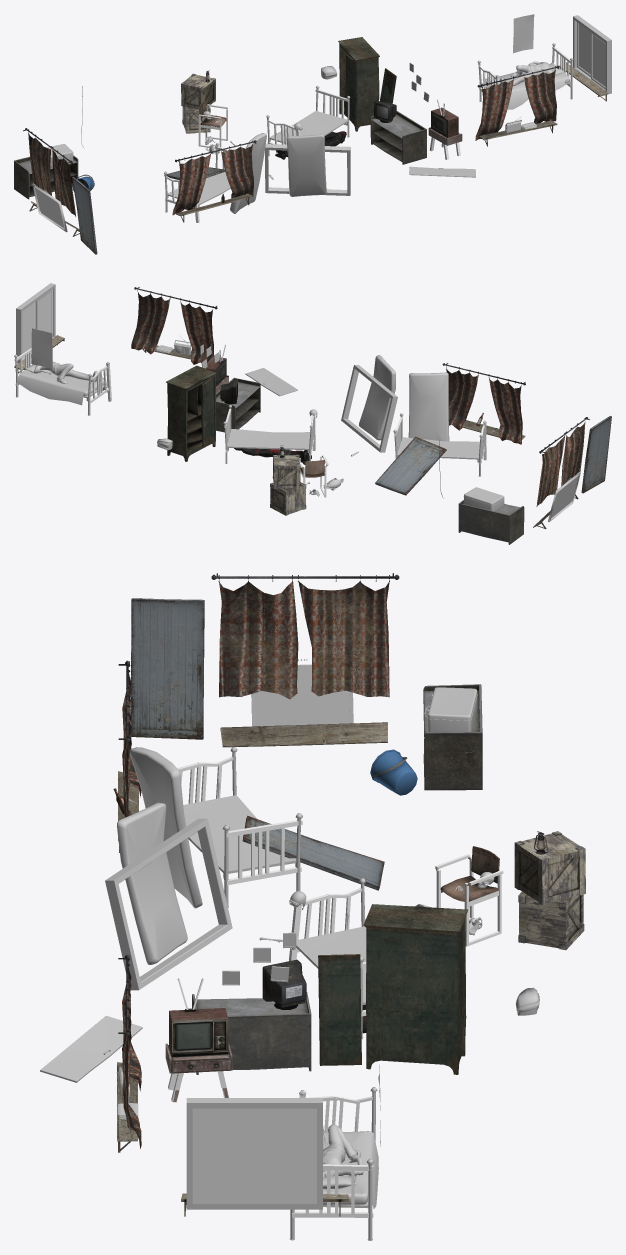
Rendered from H3_Rooms.fbx.
The picture shows the model from 3 angles, top to bottom: view 1: azimuth 30°, elevation 25°; view 2: azimuth 150°, elevation 25°; view 3: azimuth 270°, elevation 25°; orthographic projection. The views are drawn at different scales.
Parts seen in each view (by area): view 1: Double_ExpCurtainSet_T02 (×2), S_Storage (×2), Wardrobe_T01, Mattress_T02, MetalBed (×2), Double_ExpCurtainSet_T01, WoodenCrate_T01 (×2), DoubleWindow, DamagedDoor, TripleWindowFrame_T02, DoubleWindowFrame, DamagedMattress (+13 smaller); view 2: Double_ExpCurtainSet_T02 (×2), S_Storage (×2), DamagedDoor (×2), Wardrobe_T01, MetalBed (×2), DamagedMattress, Double_ExpCurtainSet_T01, WoodenCrate_T01 (×2), Mattress_T02, BedCover_T01, TripleWindowFrame_T02, DoubleWindow (+10 smaller); view 3: Double_ExpCurtainSet_T01, Wardrobe_T01, DamagedDoor (×2), DoubleWindowGrill, S_Storage (×2), MetalBed (×3), WoodenCrate_T01 (×2), Mattress_T02, TripleWindowFrame_T02, Door_01, DamagedMattress, GreenBoard (+13 smaller).
Part boxes in pixels (x1=…): Double_ExpCurtainSet_T02 (×2): x1=172, y1=65, x2=559, y2=215; S_Storage (×2): x1=14, y1=111, x2=426, y2=199; Wardrobe_T01: x1=338, y1=37, x2=379, y2=131; Mattress_T02: x1=286, y1=134, x2=326, y2=196; MetalBed (×2): x1=164, y1=85, x2=350, y2=212; Double_ExpCurtainSet_T01: x1=23, y1=128, x2=75, y2=216; WoodenCrate_T01 (×2): x1=181, y1=73, x2=215, y2=133; DoubleWindow: x1=577, y1=22, x2=605, y2=89; DamagedDoor: x1=72, y1=176, x2=97, y2=254; TripleWindowFrame_T02: x1=265, y1=144, x2=350, y2=195; DoubleWindowFrame: x1=573, y1=15, x2=611, y2=94; DamagedMattress: x1=230, y1=133, x2=266, y2=213; Double_ExpCurtainSet_T02 (×2): x1=131, y1=287, x2=525, y2=444; S_Storage (×2): x1=216, y1=377, x2=524, y2=544; DamagedDoor (×2): x1=375, y1=416, x2=611, y2=495; Wardrobe_T01: x1=166, y1=365, x2=216, y2=461; MetalBed (×2): x1=223, y1=404, x2=486, y2=476; DamagedMattress: x1=408, y1=372, x2=449, y2=441; Double_ExpCurtainSet_T01: x1=536, y1=417, x2=589, y2=506; WoodenCrate_T01 (×2): x1=270, y1=454, x2=306, y2=515; Mattress_T02: x1=359, y1=355, x2=395, y2=440; BedCover_T01: x1=17, y1=369, x2=107, y2=405; TripleWindowFrame_T02: x1=341, y1=365, x2=397, y2=452; DoubleWindow: x1=22, y1=289, x2=52, y2=353; Double_ExpCurtainSet_T01: x1=211, y1=573, x2=399, y2=699; Wardrobe_T01: x1=363, y1=904, x2=467, y2=1074; DamagedDoor (×2): x1=131, y1=598, x2=384, y2=890; DoubleWindowGrill: x1=192, y1=1108, x2=316, y2=1203; S_Storage (×2): x1=192, y1=684, x2=482, y2=1074; MetalBed (×3): x1=183, y1=747, x2=377, y2=1240; WoodenCrate_T01 (×2): x1=514, y1=831, x2=585, y2=950; Mattress_T02: x1=117, y1=802, x2=187, y2=964; TripleWindowFrame_T02: x1=105, y1=818, x2=232, y2=990; Door_01: x1=318, y1=954, x2=361, y2=1065; DamagedMattress: x1=129, y1=747, x2=202, y2=908; GreenBoard: x1=251, y1=664, x2=353, y2=726.
Size of the model in its own units: 18.22 by 2.89 by 8.
